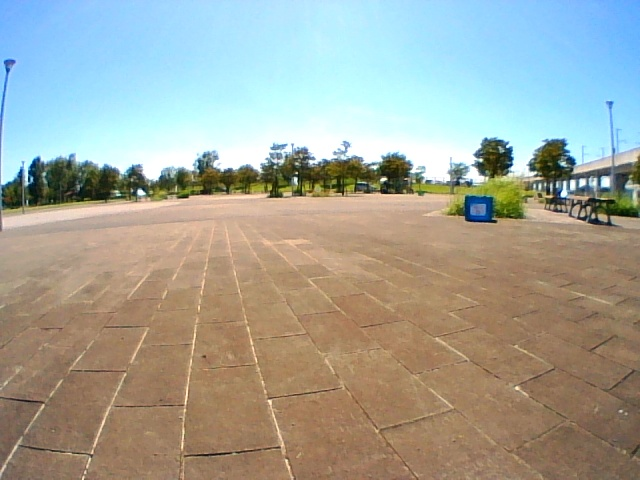blue_box: (466, 197, 492, 222)
tag: (470, 203, 485, 215)
